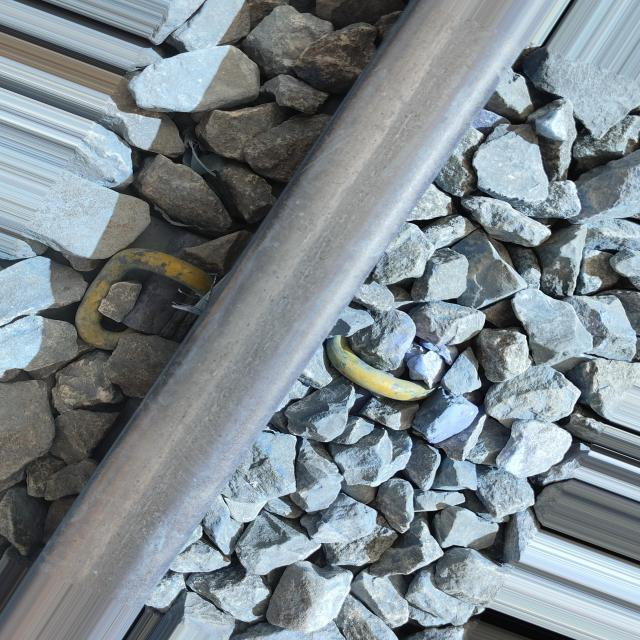Good Fasteners: (75, 248, 213, 398), (326, 336, 430, 401)
